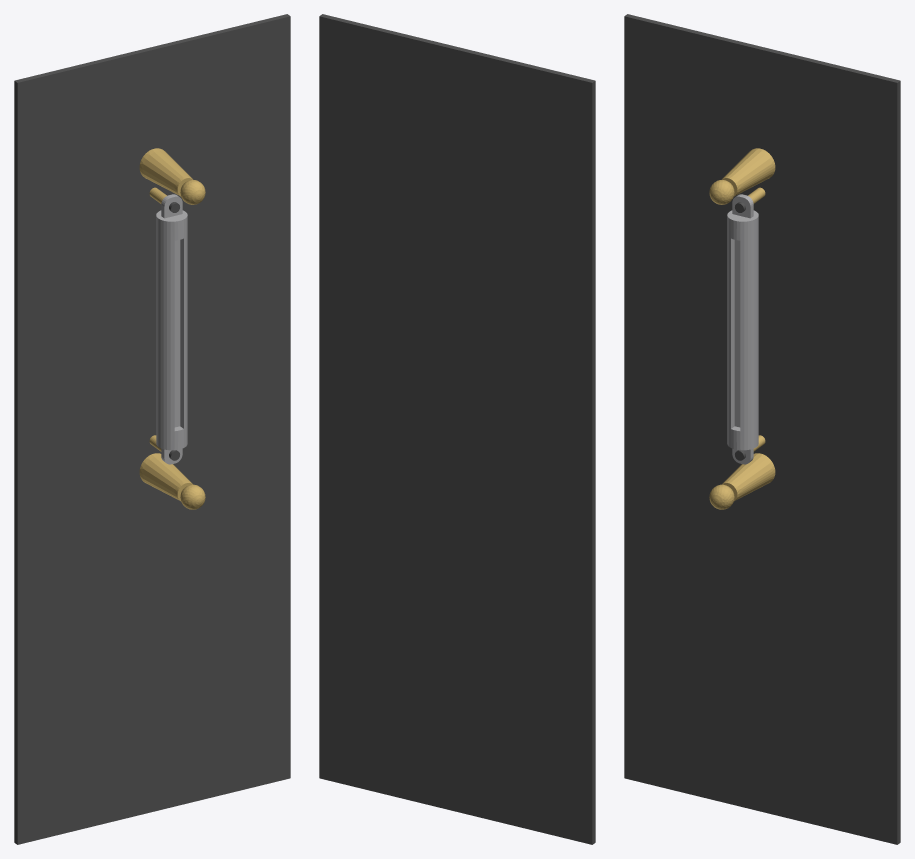
The model's file is heater.obj.
3 renders of one model, left to right at view 1: azimuth 30°, elevation 25°; view 2: azimuth 150°, elevation 25°; view 3: azimuth 330°, elevation 25°, orthographic.
Visible parts, largest first — view 1: b_heater_base_001_, b_heater_tube_001_, b_heater_rod_support_001_, b_heater_rod_support_001_001; view 2: b_heater_base_001_; view 3: b_heater_base_001_, b_heater_tube_001_, b_heater_rod_support_001_, b_heater_rod_support_001_001.
Part boxes in pixels (bbox=[...]): b_heater_base_001_: bbox=[14, 14, 290, 844]; b_heater_tube_001_: bbox=[156, 194, 187, 464]; b_heater_rod_support_001_: bbox=[139, 148, 205, 204]; b_heater_rod_support_001_001: bbox=[139, 453, 205, 509]; b_heater_base_001_: bbox=[319, 14, 595, 844]; b_heater_base_001_: bbox=[624, 14, 900, 844]; b_heater_tube_001_: bbox=[727, 194, 758, 464]; b_heater_rod_support_001_: bbox=[709, 148, 775, 204]; b_heater_rod_support_001_001: bbox=[709, 453, 775, 509].
Size of the model in its own units: 150 by 400 by 46.
